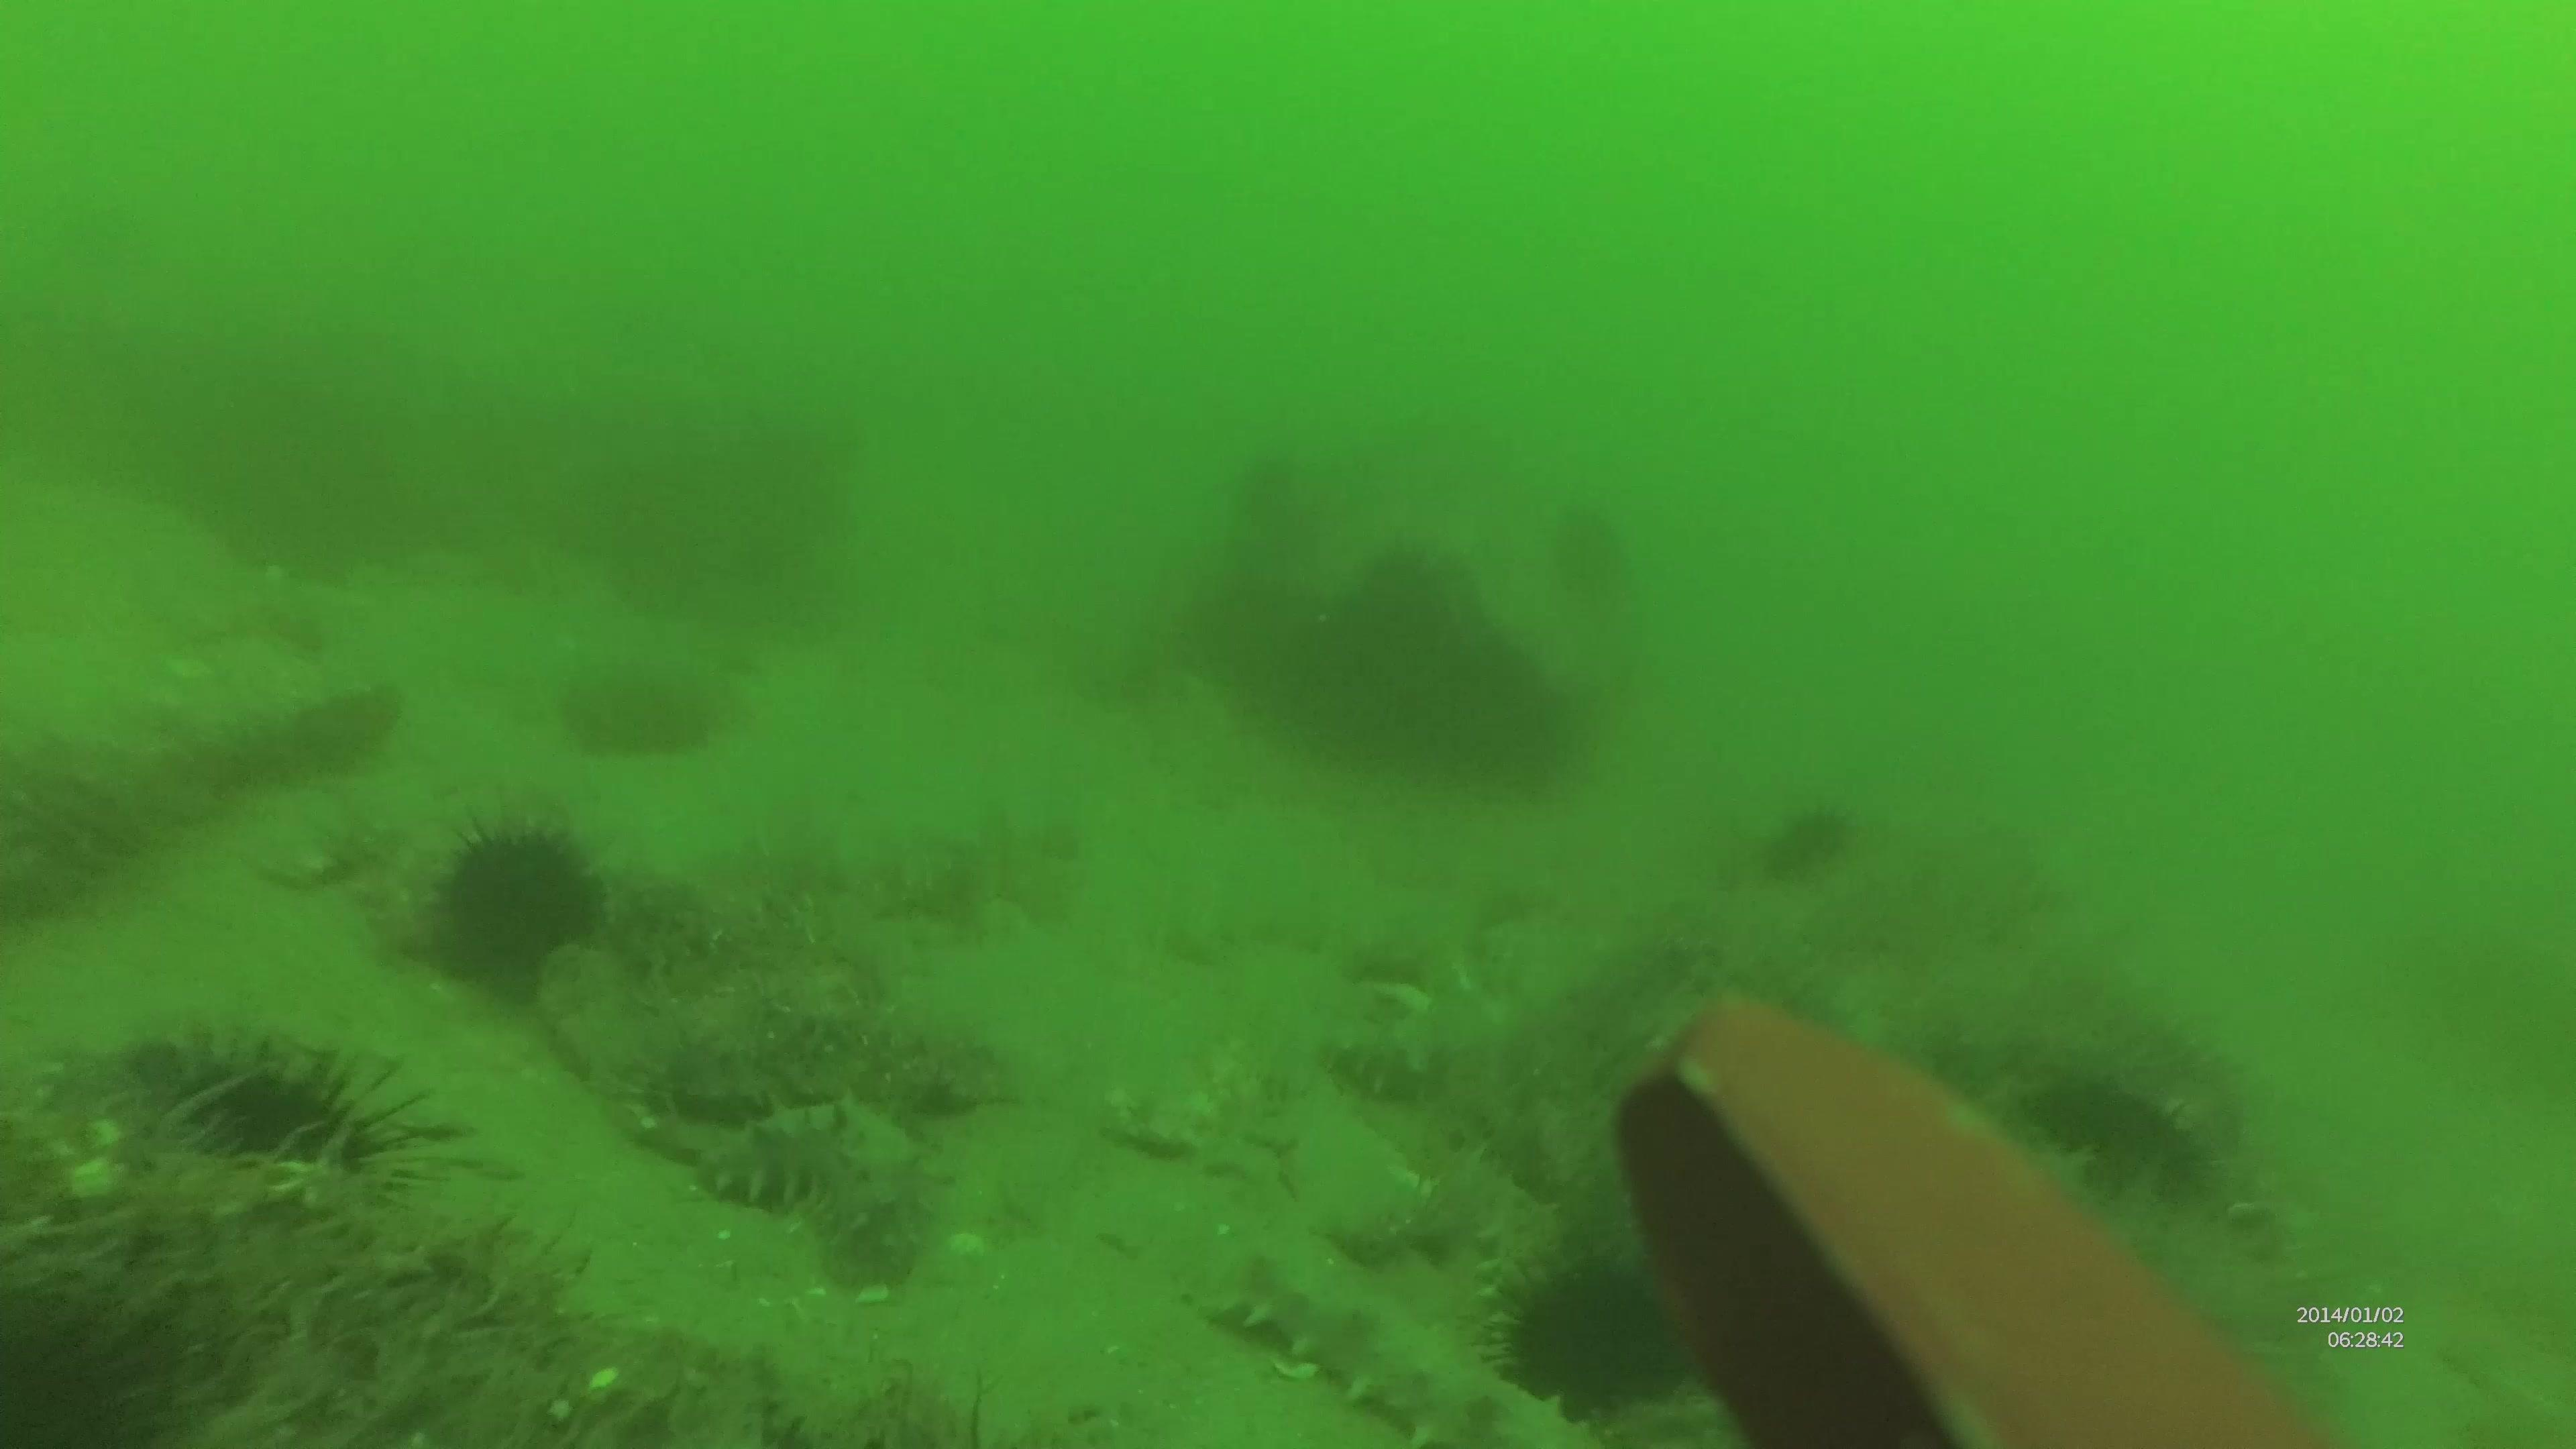echinus: (175, 1046, 419, 1214), (1491, 1240, 1698, 1410), (2026, 1069, 2210, 1228), (428, 823, 605, 987), (1762, 803, 1858, 883)
holothurian: (1207, 1237, 1474, 1449), (695, 1100, 911, 1215)
